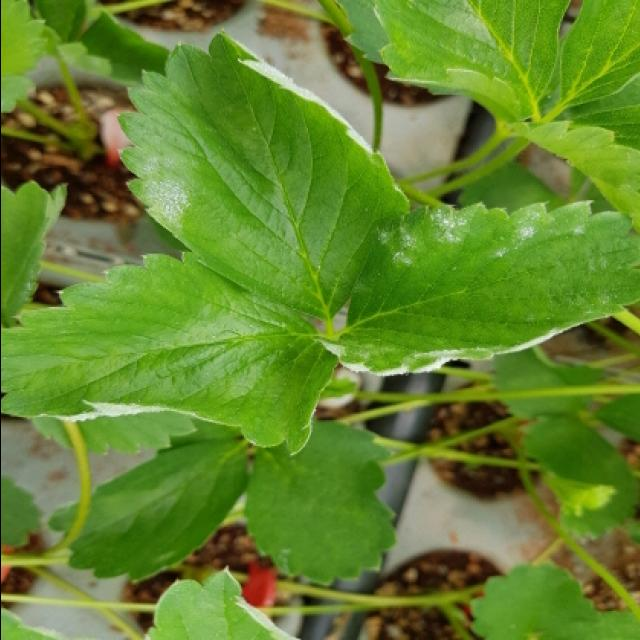Powdery Mildew Leaf: (116, 31, 410, 323), (2, 248, 338, 456), (318, 198, 640, 376)
